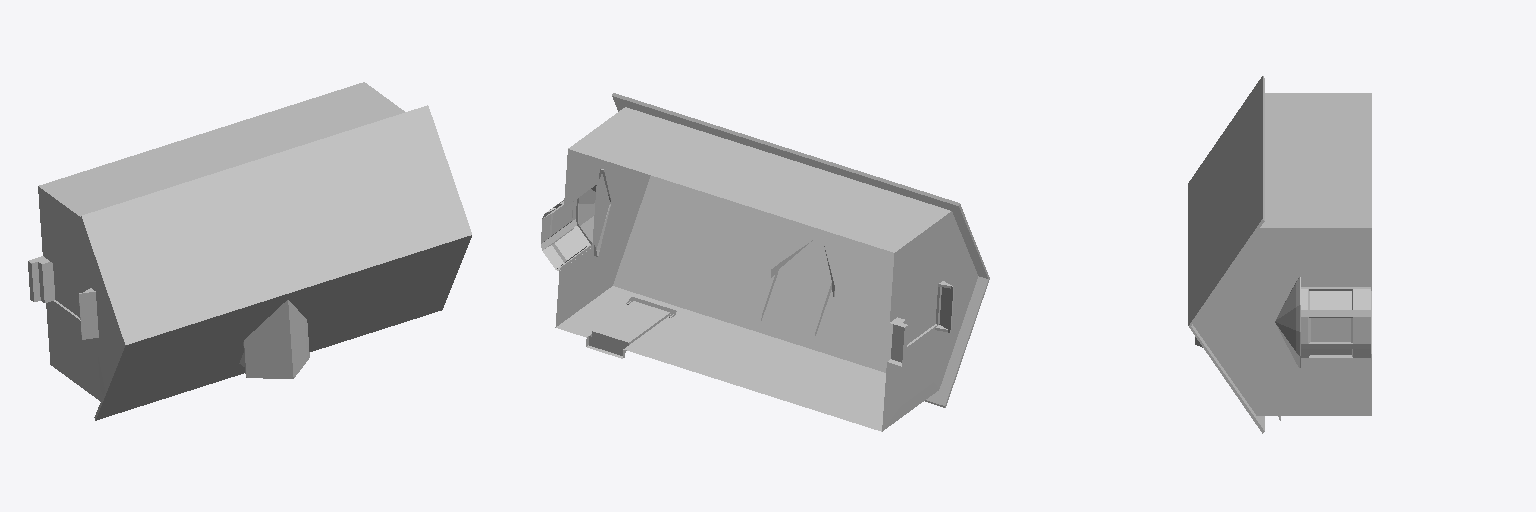
File: cottage.obj
3 renders of one model, left to right at view 1: azimuth 30°, elevation 25°; view 2: azimuth 150°, elevation 25°; view 3: azimuth 270°, elevation 25°, orthographic.
Visible parts, largest first — view 1: Cube_Cube.002; view 2: Cube_Cube.002; view 3: Cube_Cube.002.
Boxes of the visible parts, x1,y1,x2,y2 form: Cube_Cube.002: [28, 82, 471, 420]; Cube_Cube.002: [541, 93, 989, 431]; Cube_Cube.002: [1188, 76, 1371, 433].
Bounding box in the file's own units: 33.93 × 20.74 × 14.67.